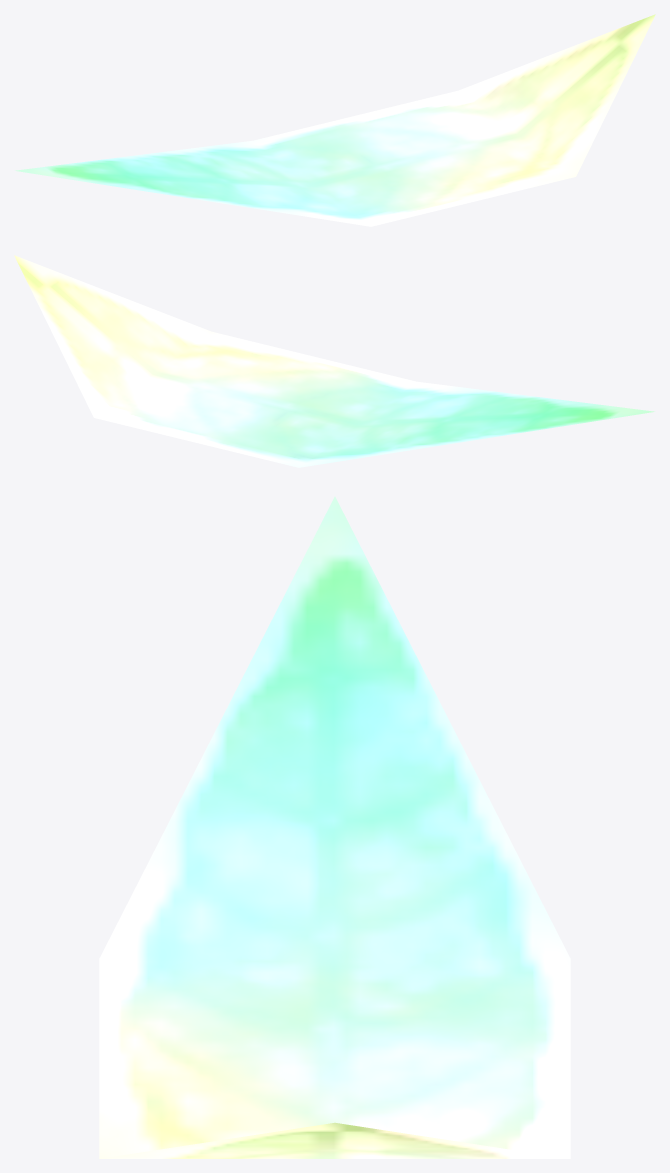
File: dead_leaf_02_SM.fbx
3 renders of one model, top to bottom at view 1: azimuth 30°, elevation 25°; view 2: azimuth 150°, elevation 25°; view 3: azimuth 270°, elevation 25°, orthographic. The views are drawn at different scales.
Visible parts, largest first — view 1: dead_leaf_02_SM_LOD0; view 2: dead_leaf_02_SM_LOD0; view 3: dead_leaf_02_SM_LOD0.
Part boxes in pixels (x1,y1,x2,y2): dead_leaf_02_SM_LOD0: (15, 14, 655, 226); dead_leaf_02_SM_LOD0: (14, 255, 654, 467); dead_leaf_02_SM_LOD0: (99, 496, 570, 1158).
Size of the model in its own units: 58.65 by 18.64 by 7.49.
Materials: 1 (1 with a texture image).
